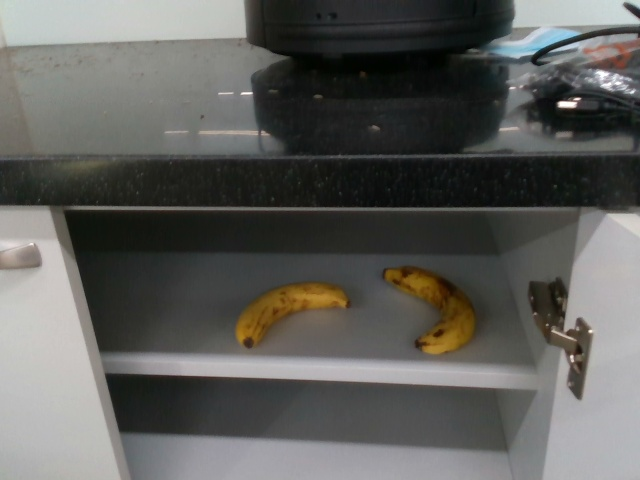banana: (379, 264, 480, 357), (237, 283, 352, 349)
